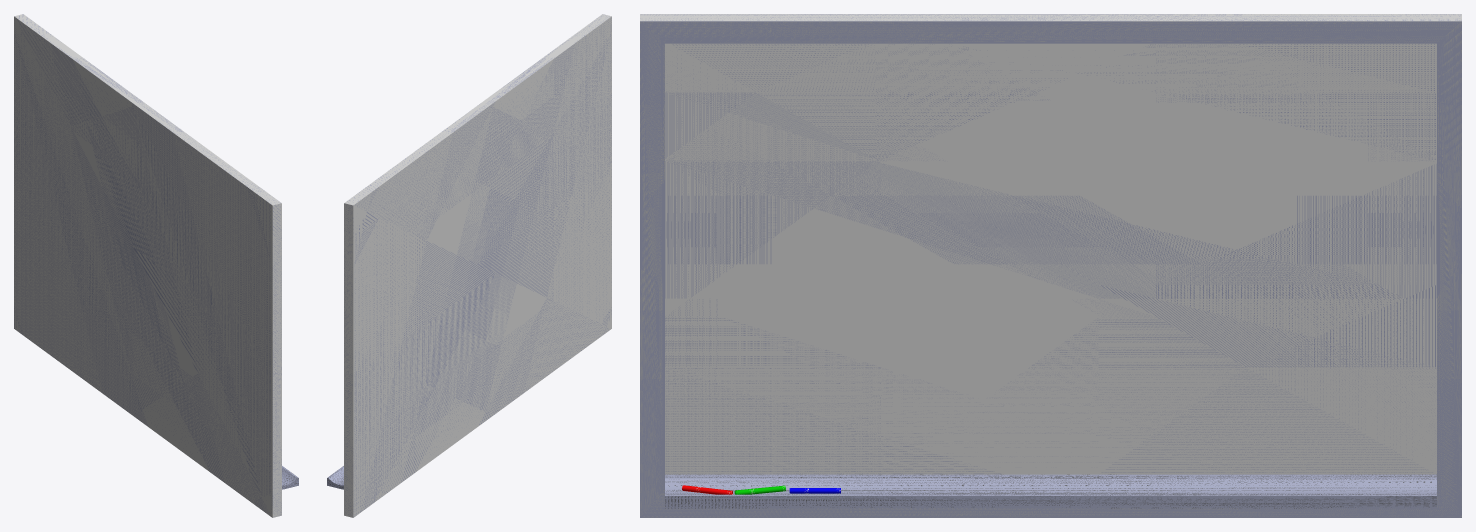
The model's file is whiteBoard.fbx.
3 views of the same model, side by side, from view 1: azimuth 30°, elevation 25°; view 2: azimuth 150°, elevation 25°; view 3: azimuth 270°, elevation 25° (orthographic). The views are drawn at different scales.
Parts seen in each view (by area): view 1: Model; view 2: Model; view 3: Model.
Part boxes in pixels (<box>): Model: <box>14,14,298,517</box>; Model: <box>327,14,611,517</box>; Model: <box>640,14,1461,517</box>.
Size of the model in its own units: 5.5 by 48.02 by 71.99.
